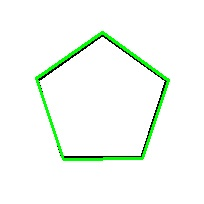line_segment: (36, 32, 169, 160)
